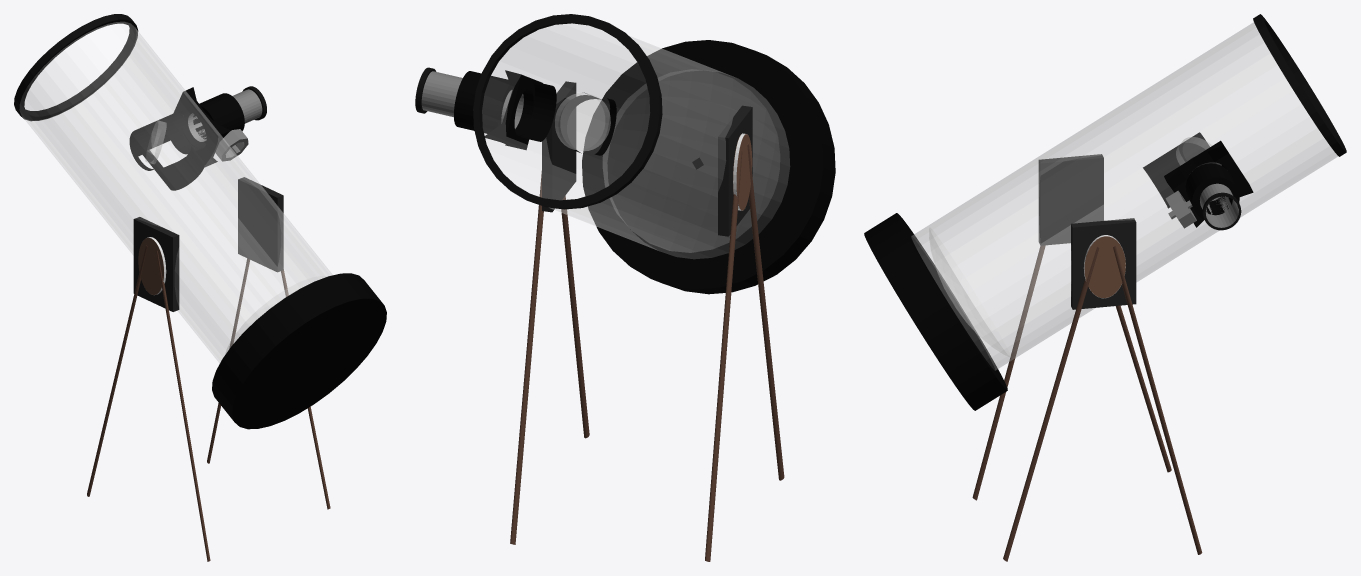
Rendered from NewtonianTelescope_VanshGhadiya.gltf.
3 views of the same model, side by side, from view 1: azimuth 30°, elevation 25°; view 2: azimuth 150°, elevation 25°; view 3: azimuth 270°, elevation 25° (orthographic). The views are drawn at different scales.
Parts seen in each view (by area): view 1: Cylinder.002; view 2: Cylinder.002; view 3: Cylinder.002.
Boxes of the visible parts, box(x1,y1,x2,y2) form: Cylinder.002: box(14, 14, 386, 561); Cylinder.002: box(415, 14, 835, 561); Cylinder.002: box(864, 14, 1346, 561).
Bounding box in the file's own units: 5.57 × 11.2 × 10.03.
